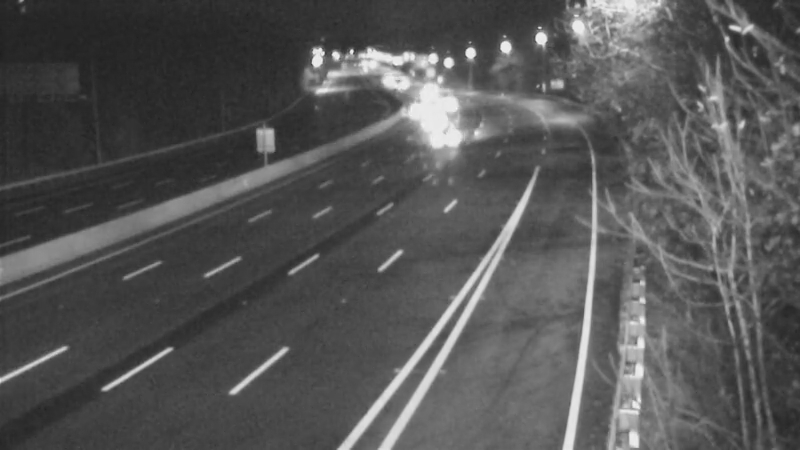vehicle: (370, 55, 420, 105), (403, 70, 453, 120), (426, 78, 476, 128), (389, 81, 439, 131), (405, 97, 455, 147), (420, 111, 470, 161)
